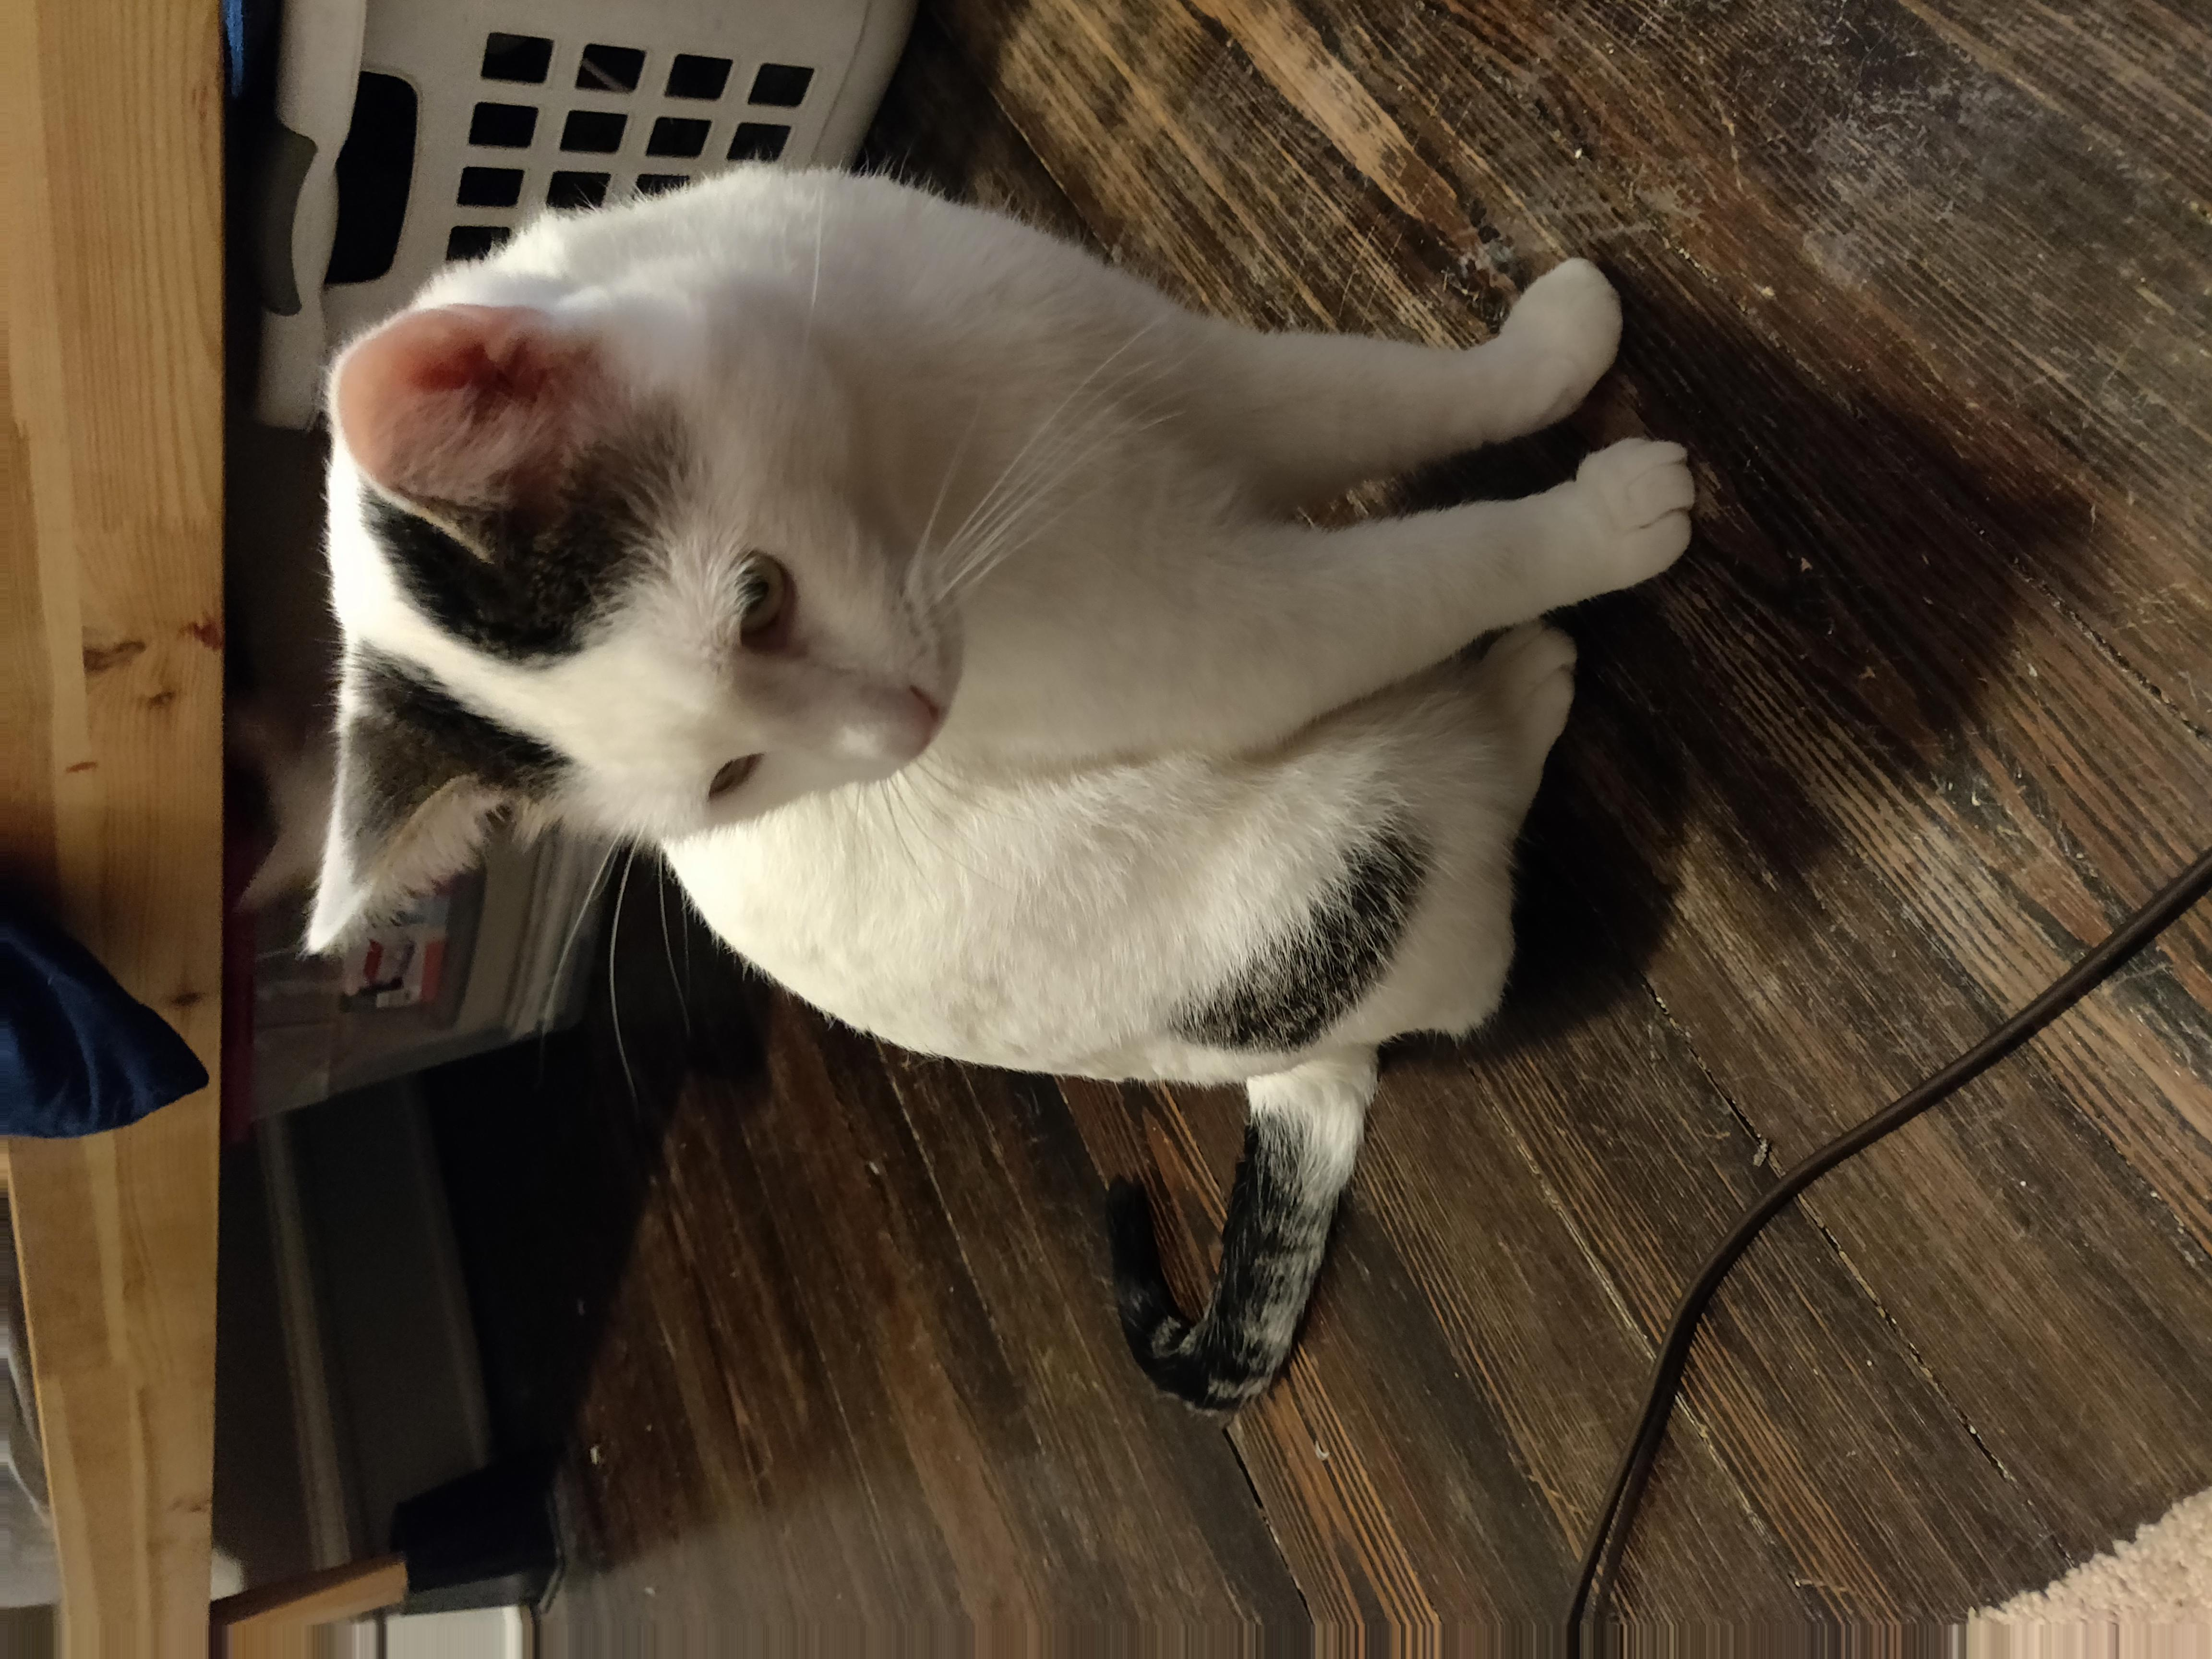cat: (313, 168, 1701, 1028)
